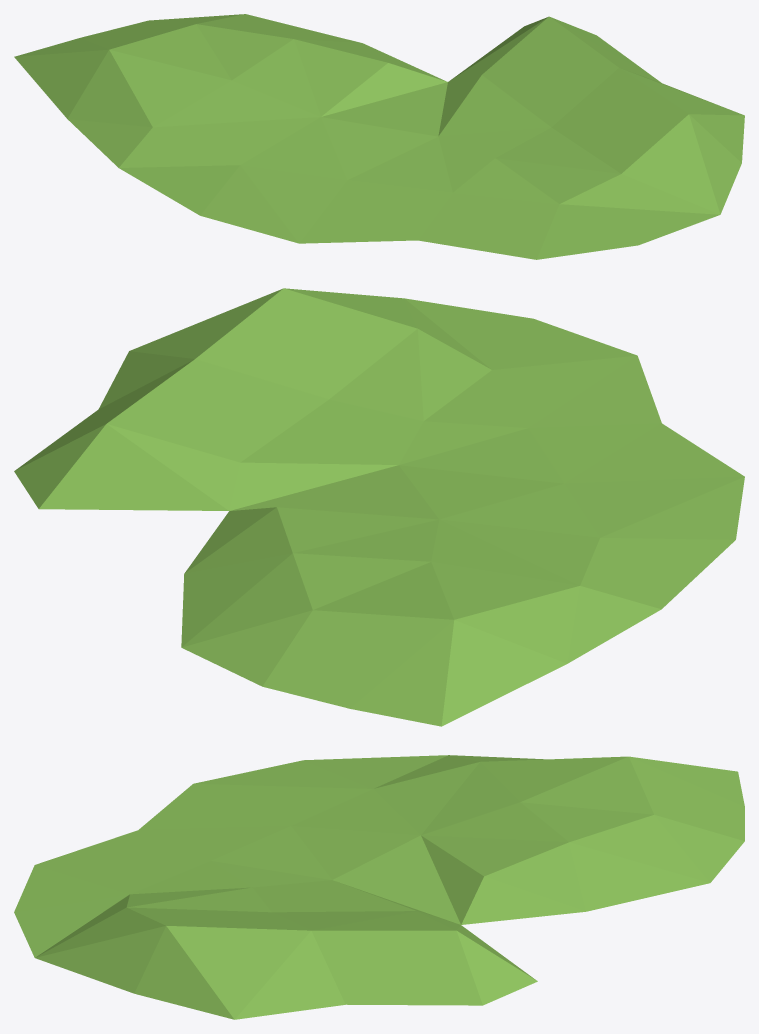
Rendered from MT_Mountain_S_c_18_LOD.fbx.
3 views of the same model, one above another, from view 1: azimuth 30°, elevation 25°; view 2: azimuth 150°, elevation 25°; view 3: azimuth 270°, elevation 25° (orthographic). The views are drawn at different scales.
Parts seen in each view (by area): view 1: MT_Mountain_S_c_18_LOD0; view 2: MT_Mountain_S_c_18_LOD0; view 3: MT_Mountain_S_c_18_LOD0.
Boxes of the visible parts, x1,y1,x2,y2 form: MT_Mountain_S_c_18_LOD0: (14,14,744,259); MT_Mountain_S_c_18_LOD0: (14,288,744,726); MT_Mountain_S_c_18_LOD0: (14,755,744,1019).
Size of what is drawn, in the model's own units: 1826 by 159 by 2127.
